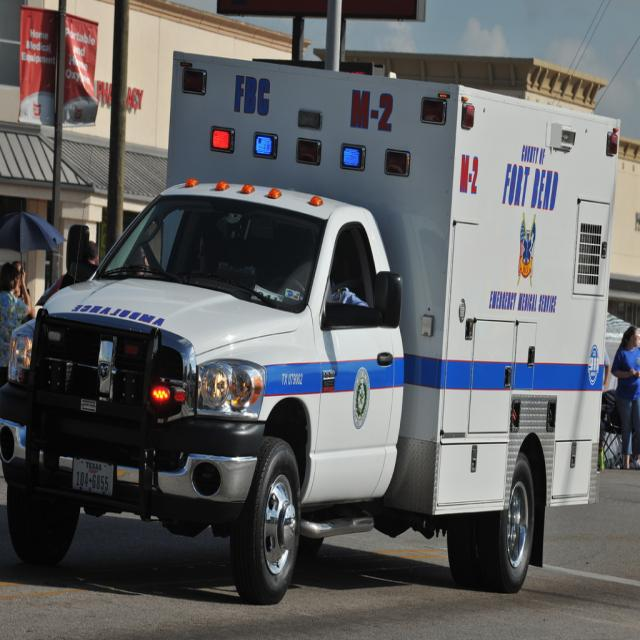Ambulance: (0, 51, 619, 603)
